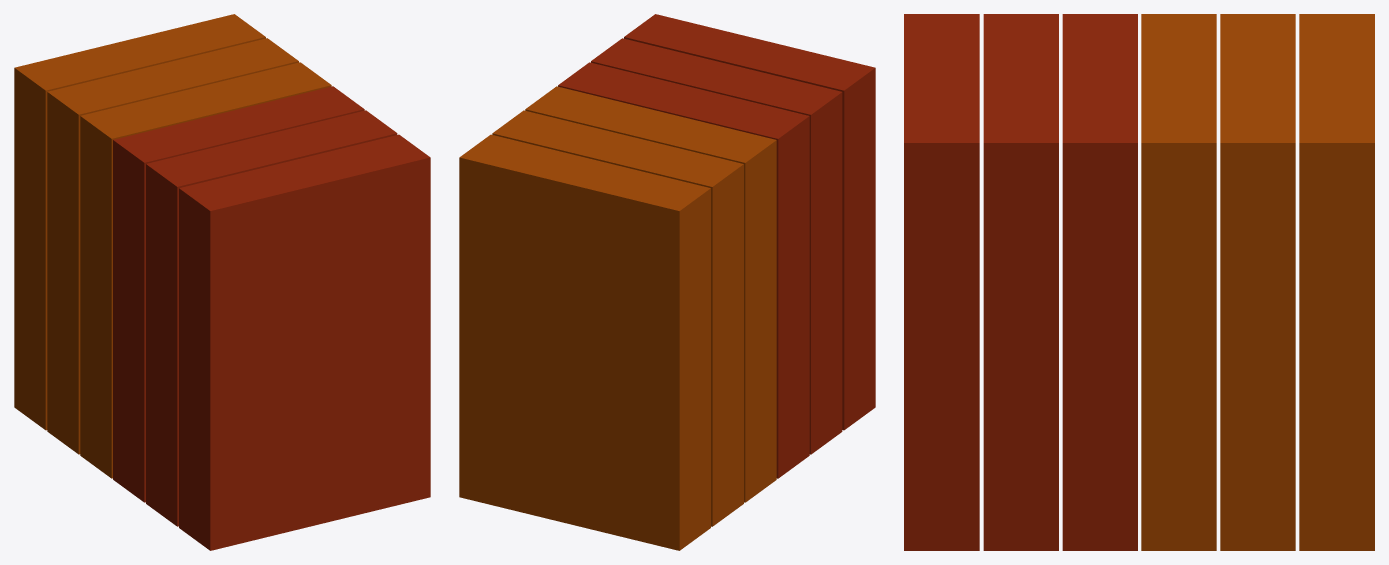
Rendered from libros.obj.
3 renders of one model, left to right at view 1: azimuth 30°, elevation 25°; view 2: azimuth 150°, elevation 25°; view 3: azimuth 270°, elevation 25°, orthographic. The views are drawn at different scales.
Visible parts, largest first — view 1: pCube26, pCube31, pCube30, pCube27, pCube28, pCube29; view 2: pCube31, pCube26, pCube27, pCube28, pCube30, pCube29; view 3: pCube26, pCube27, pCube28, pCube29, pCube30, pCube31.
Boxes of the visible parts, x1=… form: pCube26: x1=179, y1=134, x2=430, y2=550; pCube31: x1=14, y1=14, x2=265, y2=430; pCube30: x1=47, y1=38, x2=298, y2=454; pCube27: x1=146, y1=110, x2=397, y2=526; pCube28: x1=113, y1=86, x2=364, y2=502; pCube29: x1=80, y1=62, x2=331, y2=478; pCube31: x1=459, y1=134, x2=710, y2=550; pCube26: x1=624, y1=14, x2=875, y2=430; pCube27: x1=591, y1=38, x2=842, y2=454; pCube28: x1=558, y1=62, x2=809, y2=478; pCube30: x1=492, y1=110, x2=743, y2=526; pCube29: x1=525, y1=86, x2=776, y2=502; pCube26: x1=904, y1=14, x2=979, y2=550; pCube27: x1=983, y1=14, x2=1058, y2=550; pCube28: x1=1062, y1=14, x2=1137, y2=550; pCube29: x1=1141, y1=14, x2=1216, y2=550; pCube30: x1=1220, y1=14, x2=1295, y2=550; pCube31: x1=1299, y1=14, x2=1374, y2=550.
Bounding box in the file's own units: 18.67 × 27.54 × 28.8.
Materials: 2 (2 with a texture image).
